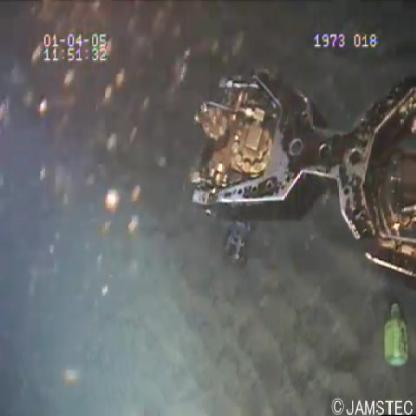Rov: (182, 58, 416, 283)
Rác: (380, 297, 410, 369)
